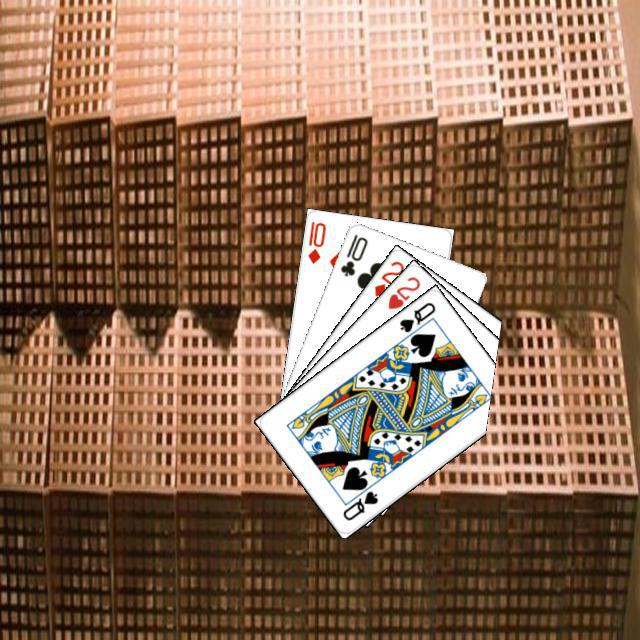10c: (335, 229, 369, 278)
10d: (303, 216, 328, 265)
2d: (369, 256, 406, 298)
2h: (383, 272, 422, 311)
Qs: (394, 297, 437, 334), (338, 486, 380, 522)
